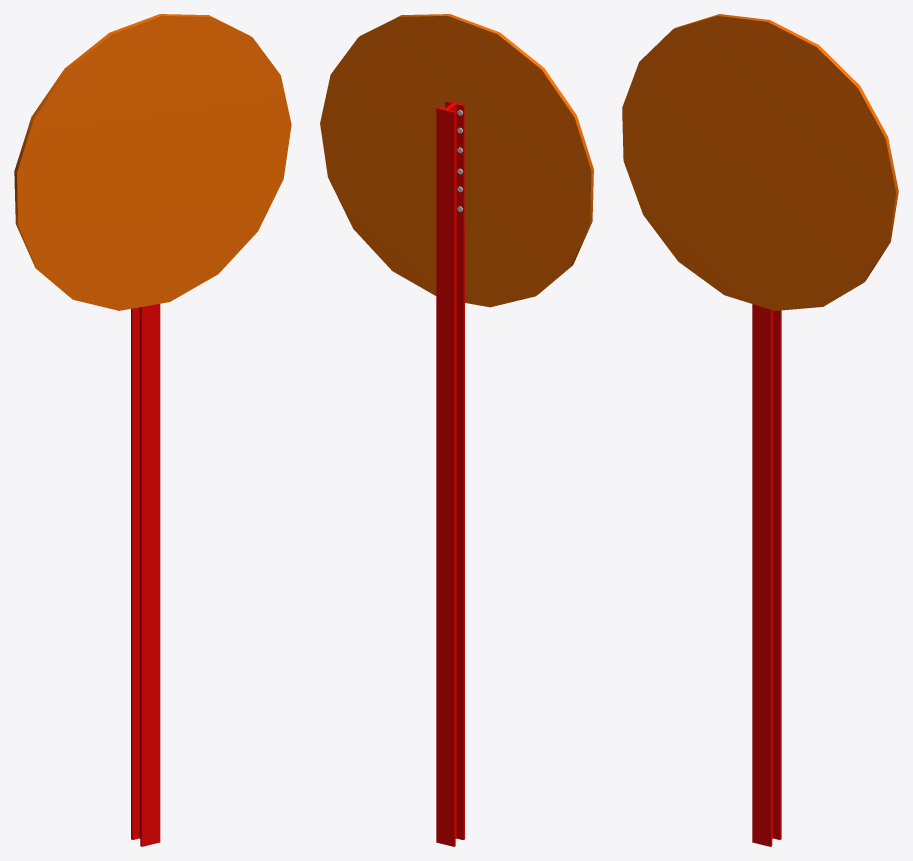
Rendered from CircleSign.fbx.
3 views of the same model, side by side, from view 1: azimuth 30°, elevation 25°; view 2: azimuth 150°, elevation 25°; view 3: azimuth 330°, elevation 25° (orthographic).
Parts seen in each view (by area): view 1: Oil_Tank, Cube; view 2: Oil_Tank, Cube; view 3: Oil_Tank, Cube.
Boxes of the visible parts, x1=… form: Oil_Tank: x1=14, y1=14, x2=291, y2=310; Cube: x1=131, y1=304, x2=160, y2=846; Oil_Tank: x1=320, y1=14, x2=593, y2=307; Cube: x1=436, y1=100, x2=464, y2=846; Oil_Tank: x1=622, y1=14, x2=898, y2=310; Cube: x1=752, y1=304, x2=781, y2=846.
Bounding box in the file's own units: 94.86 × 273 × 8.56.
